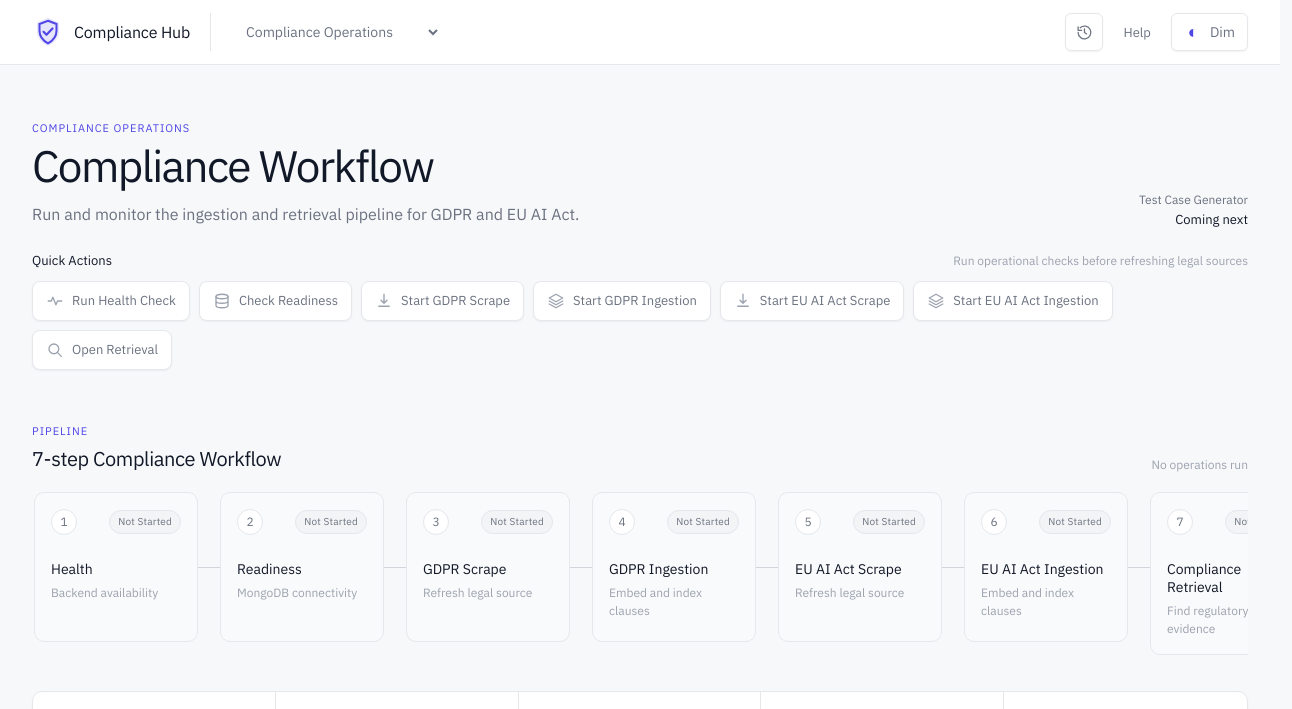
Test case: Activity Log screen › applies activity filters and returns to the workflow
The width and height of the screenshot is (1292, 709).
Click the button named "Activity Log": x=1084, y=32 [1066, 13, 1104, 51]
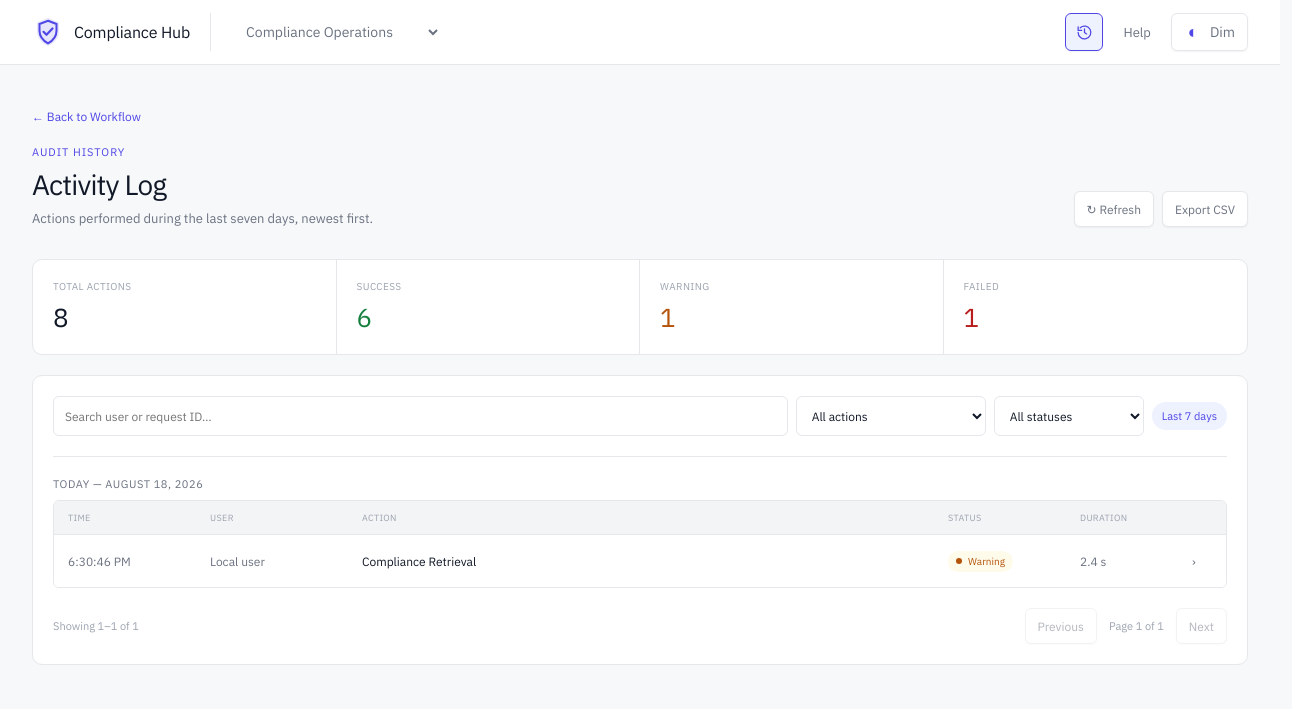
Expected: the button with aria-label "View Compliance Retrieval details" is shown, [54, 535, 1226, 587]
Select "Warning" in the 3rd dropdown named "Filter by status": x=1069, y=416 [994, 396, 1144, 436]
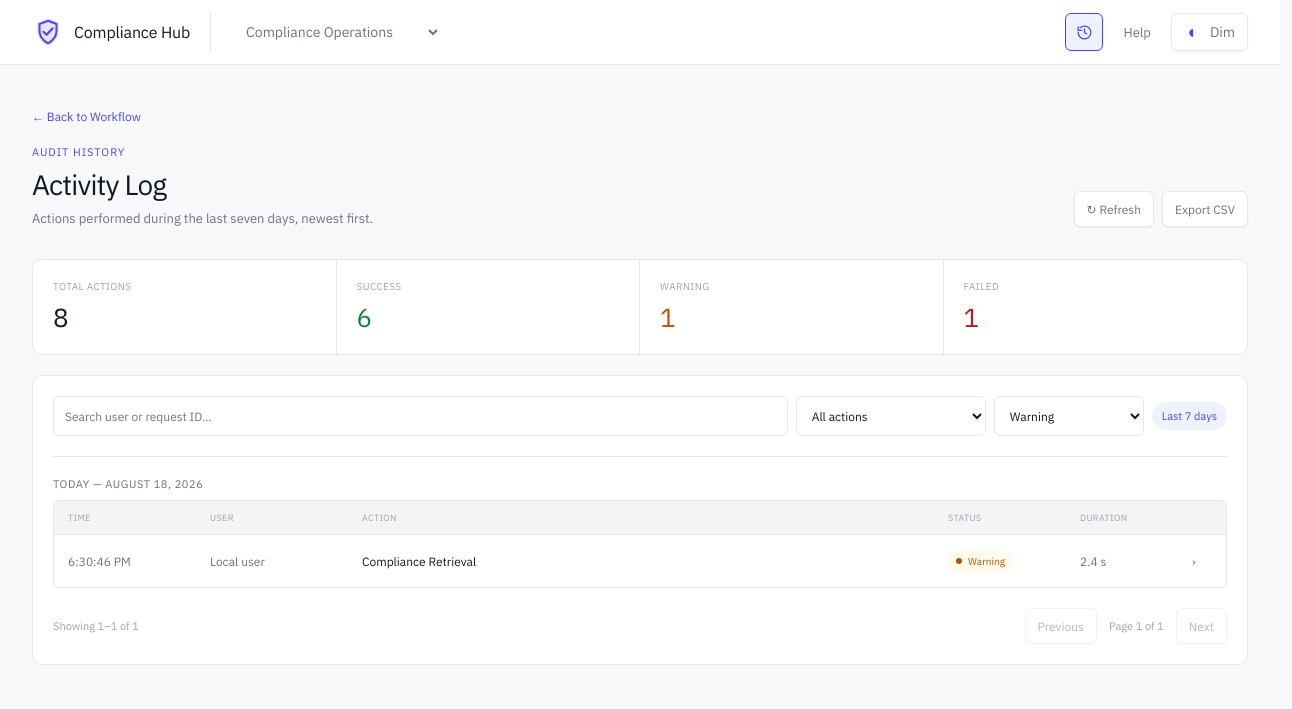
Click the button "← Back to Workflow": x=86, y=116 [32, 109, 141, 124]
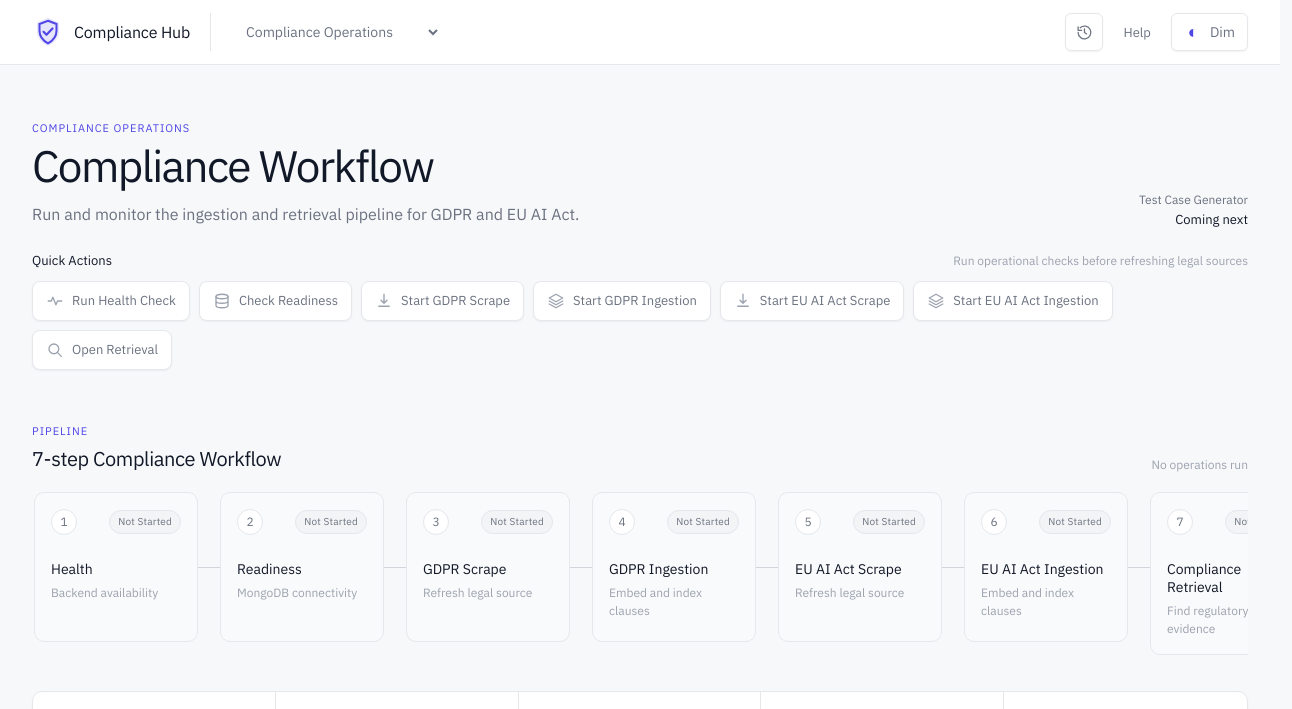
Expected: the heading "Compliance Workflow" is shown, [32, 137, 434, 194]
